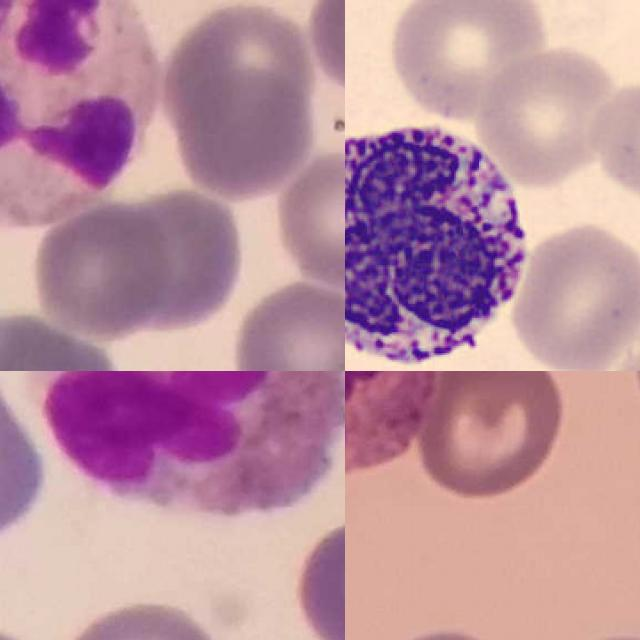Basophil: (345, 106, 539, 371)
Eosinophil: (25, 371, 345, 520)
Neutrophil: (0, 0, 162, 225)
RBC: (470, 41, 628, 186), (381, 0, 553, 126), (507, 217, 640, 371), (585, 67, 640, 208)
